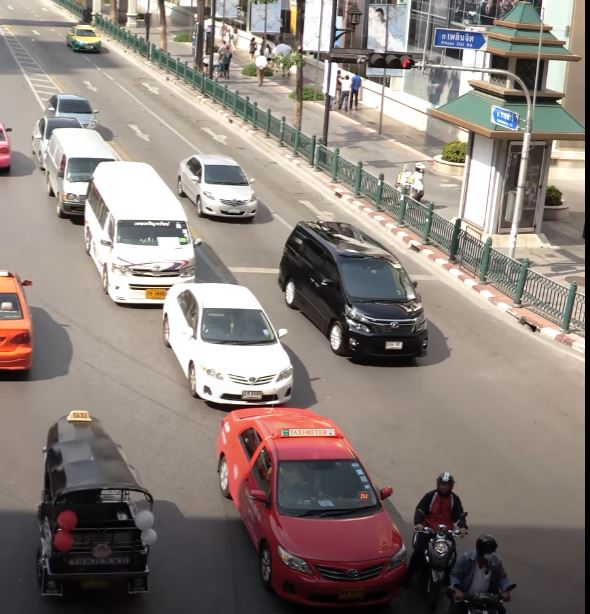Bus: (84, 160, 204, 312), (47, 127, 119, 219)
Car: (215, 405, 411, 611), (277, 219, 430, 361), (160, 281, 295, 407), (177, 154, 259, 221), (44, 94, 100, 130), (67, 24, 102, 53)
Motorcycle: (410, 470, 470, 603), (449, 533, 518, 614)
TukTuk: (35, 409, 159, 604)
